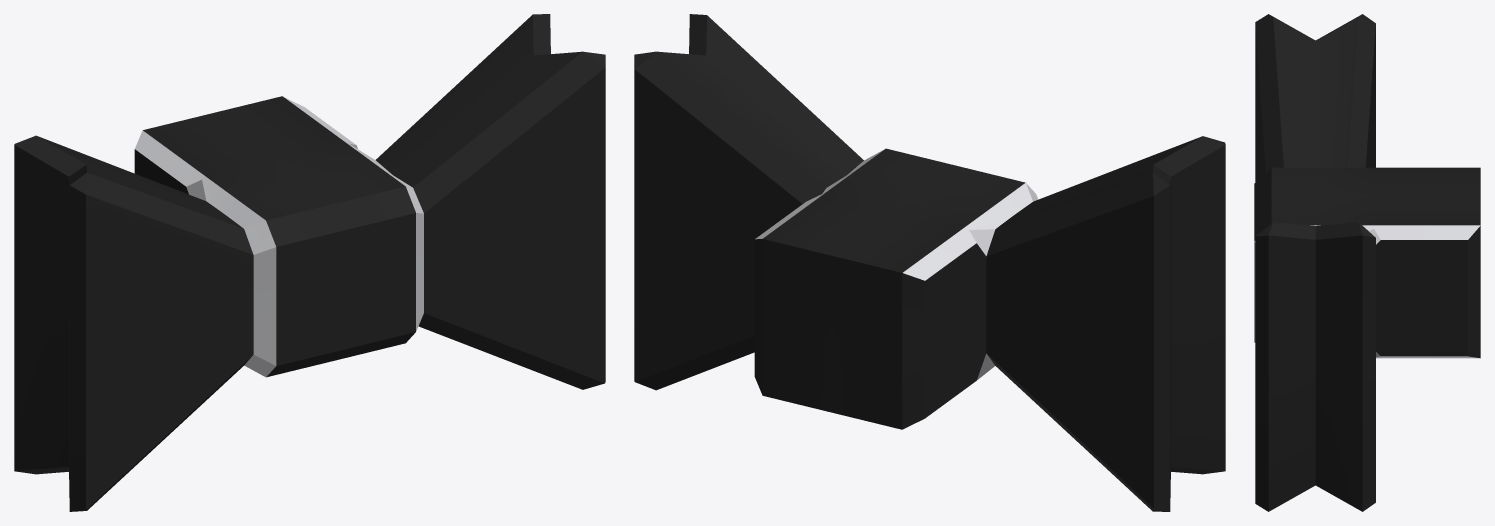
Rendered from bowtie.fbx.
3 views of the same model, side by side, from view 1: azimuth 30°, elevation 25°; view 2: azimuth 150°, elevation 25°; view 3: azimuth 270°, elevation 25° (orthographic). The views are drawn at different scales.
Visible parts, largest first — view 1: bowtie; view 2: bowtie; view 3: bowtie.
Boxes of the visible parts, left/top/right/bottom form: bowtie: left=14, top=14, right=605, bottom=511; bowtie: left=634, top=14, right=1225, bottom=511; bowtie: left=1254, top=14, right=1480, bottom=511.
Size of the model in its own units: 8.42 by 5.09 by 3.64.
